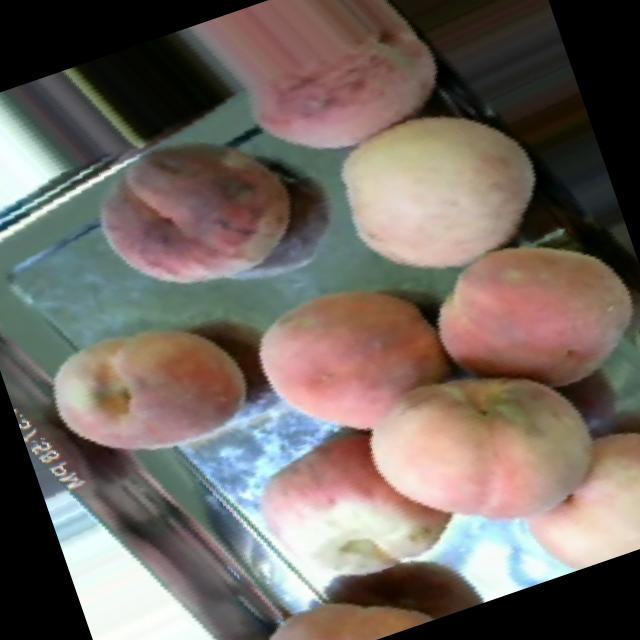Fruit: (316, 292, 640, 602), (56, 78, 336, 339), (8, 271, 284, 511), (154, 0, 475, 201), (392, 207, 640, 458), (225, 238, 482, 472), (302, 76, 568, 300), (497, 377, 640, 579), (206, 539, 459, 640)
